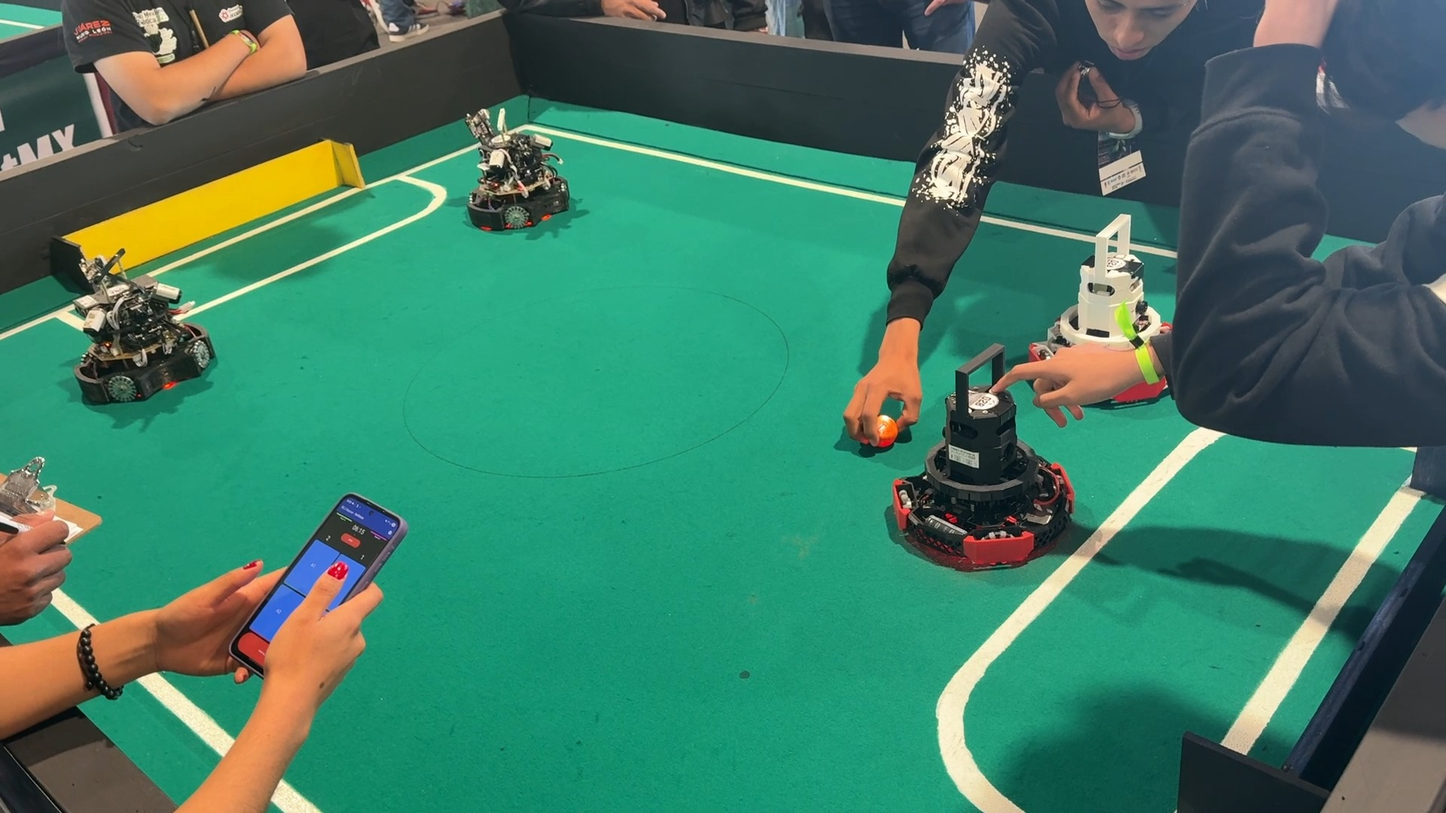Robot: (883, 332, 1101, 592), (41, 240, 227, 431), (1039, 207, 1173, 423), (431, 85, 601, 249)
pelota: (856, 407, 902, 456)
